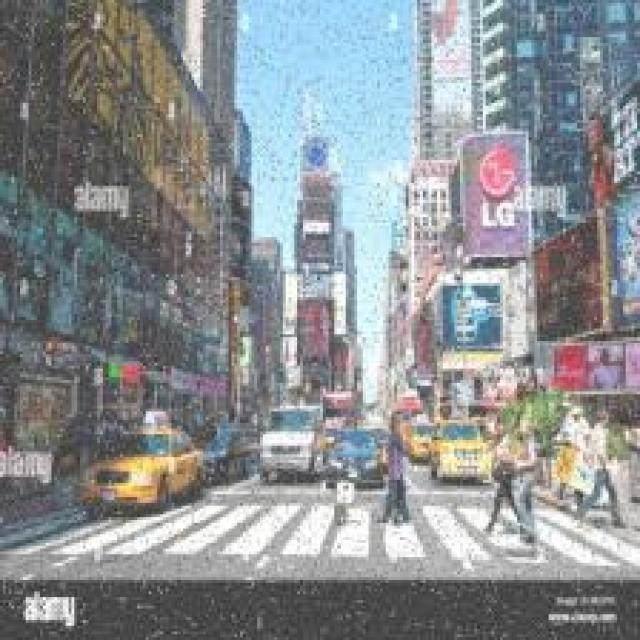crosswalk: (21, 483, 622, 576)
